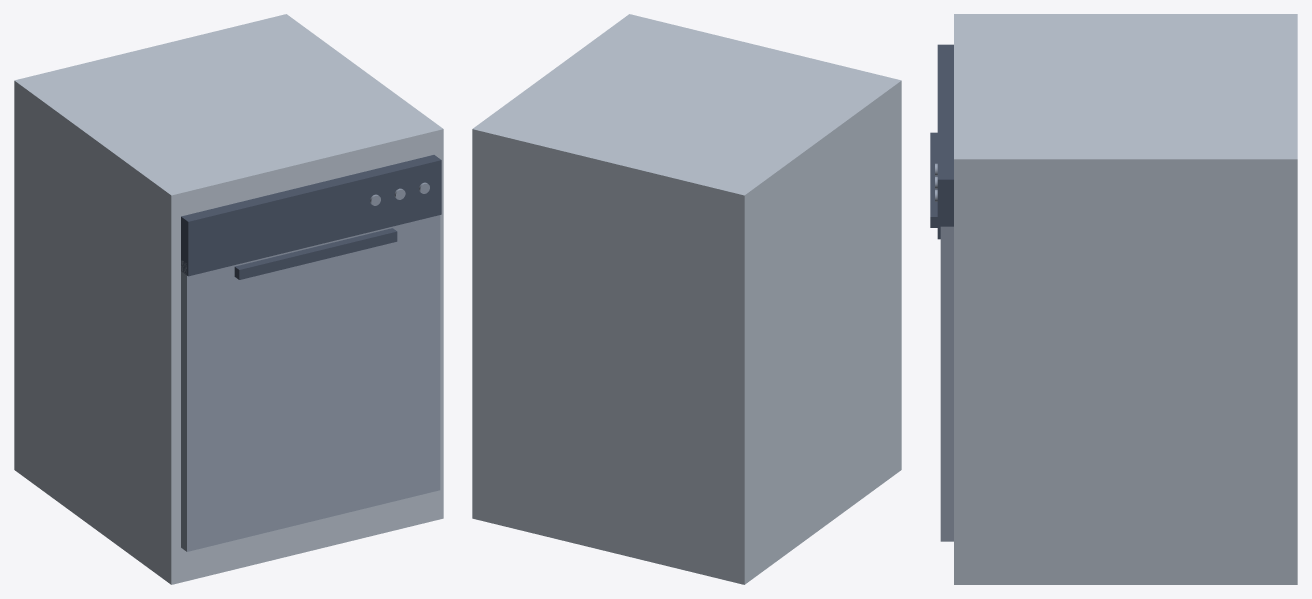
Rendered from dishwasher-lite.glb.
3 views of the same model, side by side, from view 1: azimuth 30°, elevation 25°; view 2: azimuth 150°, elevation 25°; view 3: azimuth 270°, elevation 25° (orthographic). The views are drawn at different scales.
Parts seen in each view (by area): view 1: dishwasher; view 2: dishwasher; view 3: dishwasher.
Part boxes in pixels (bbox=[...]): dishwasher: bbox=[14, 14, 443, 584]; dishwasher: bbox=[472, 14, 901, 584]; dishwasher: bbox=[930, 14, 1297, 584].
Bounding box in the file's own units: 0.5999 × 0.82 × 0.641.
